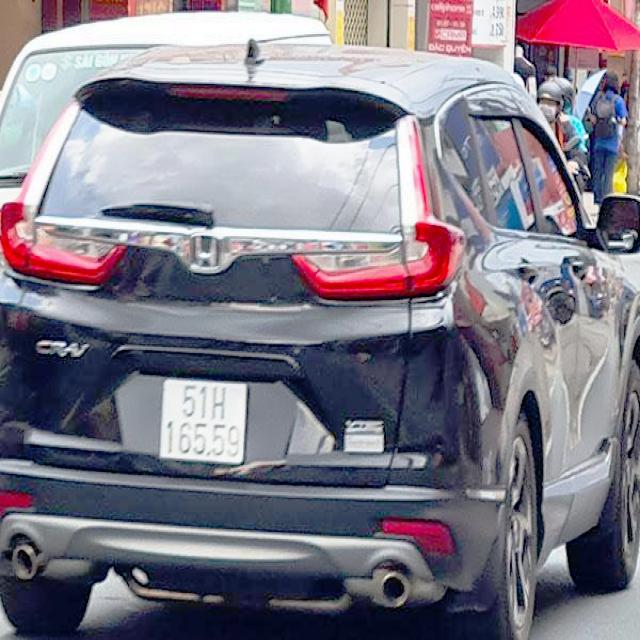license_plate: (159, 379, 248, 463)
